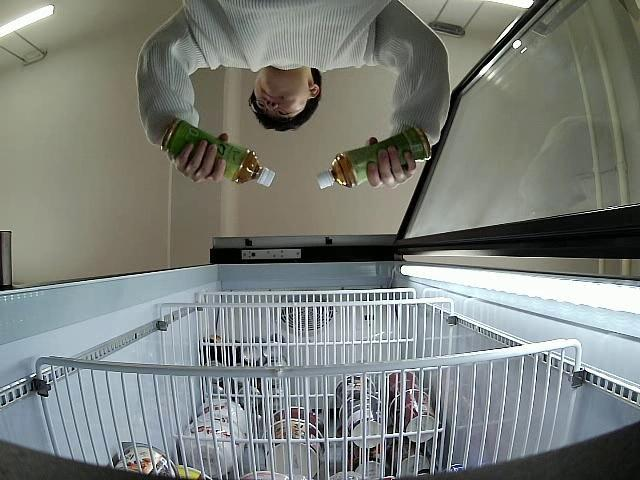19_17cha: (161, 118, 277, 190), (318, 125, 431, 188)
